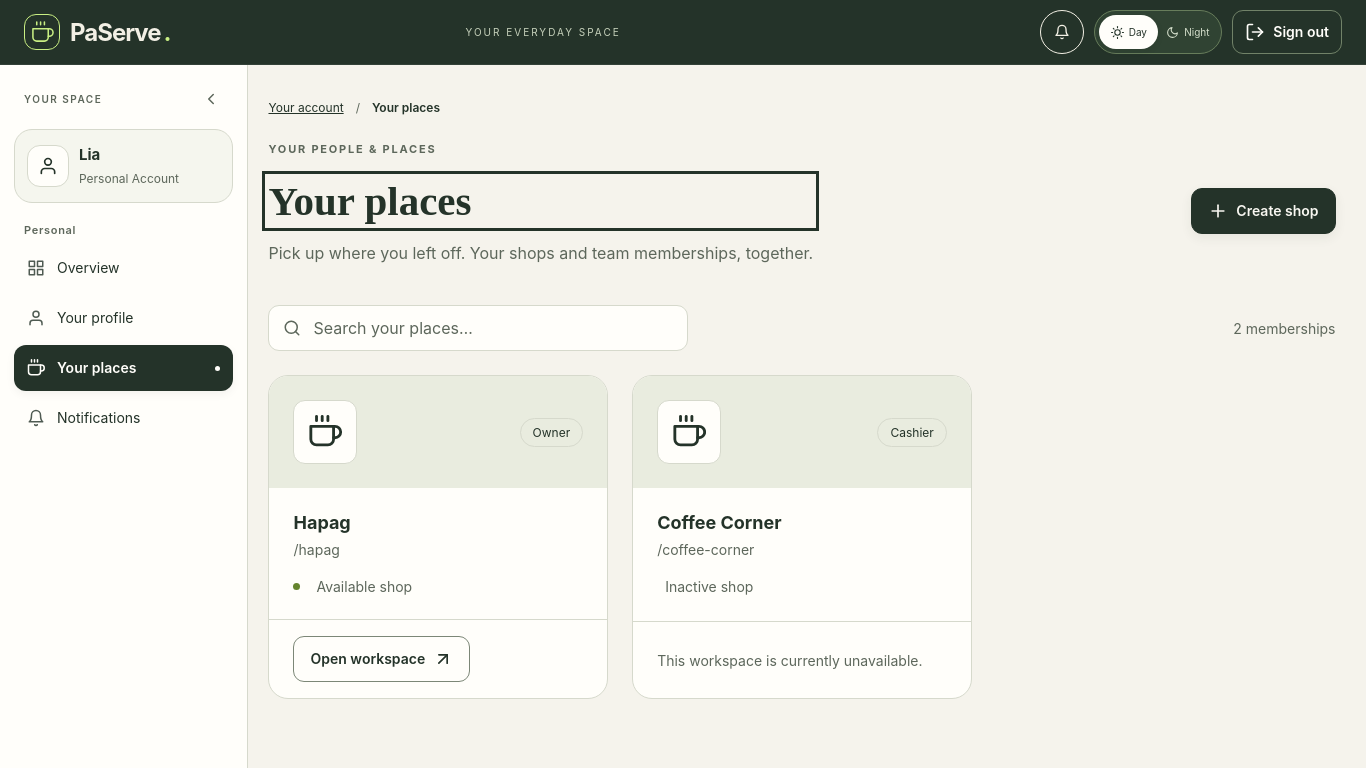
it: searches by role and recovers from no matching places
The image size is (1366, 768).
Type "cashier" into the search field labelled "Search your places" at (494, 328), box x1=302 y1=306 x2=688 y2=350
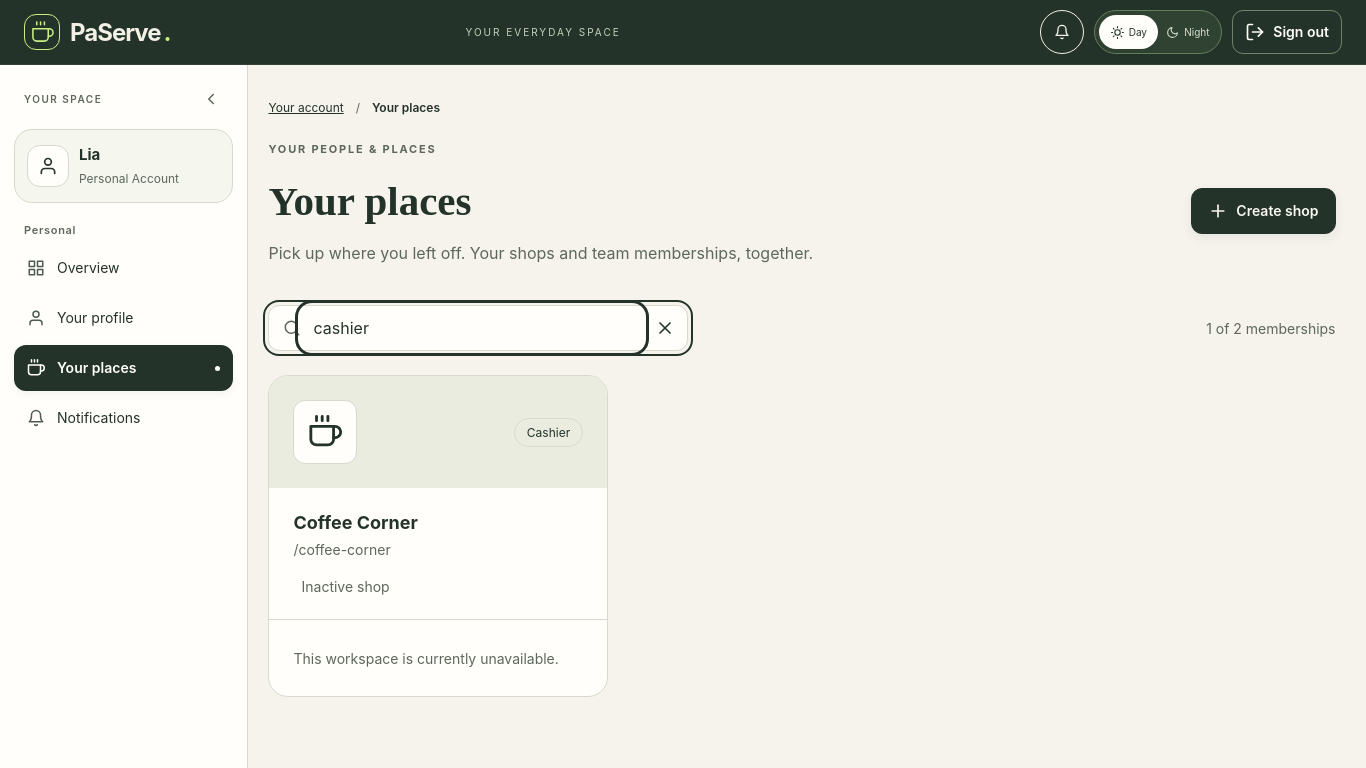
Expected: the heading "Coffee Corner" is shown, x1=294 y1=512 x2=418 y2=533
Expected: the heading "Hapag" is gone
Clear the search field named "Search your places" at (472, 328), box x1=302 y1=306 x2=644 y2=350
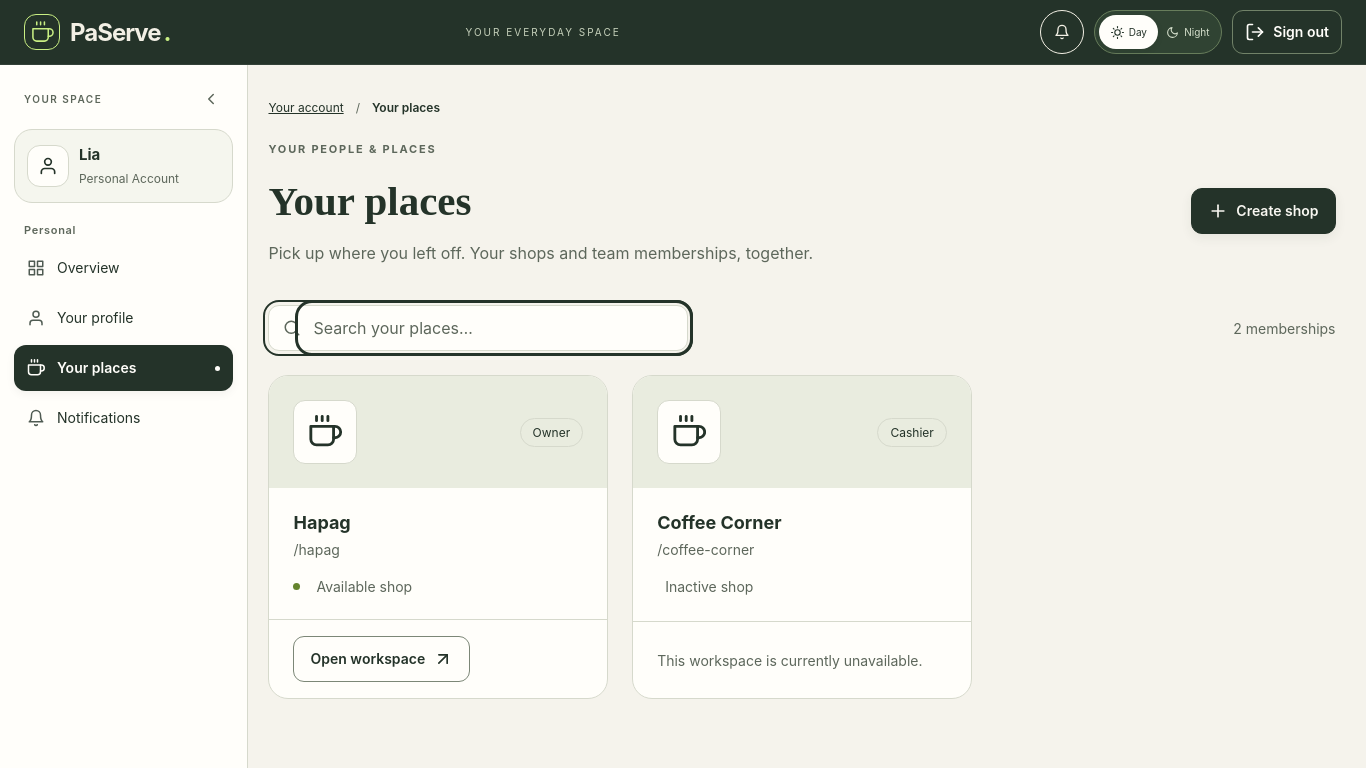
Type "missing" into the search field labelled "Search your places" at (494, 328), box x1=302 y1=306 x2=688 y2=350
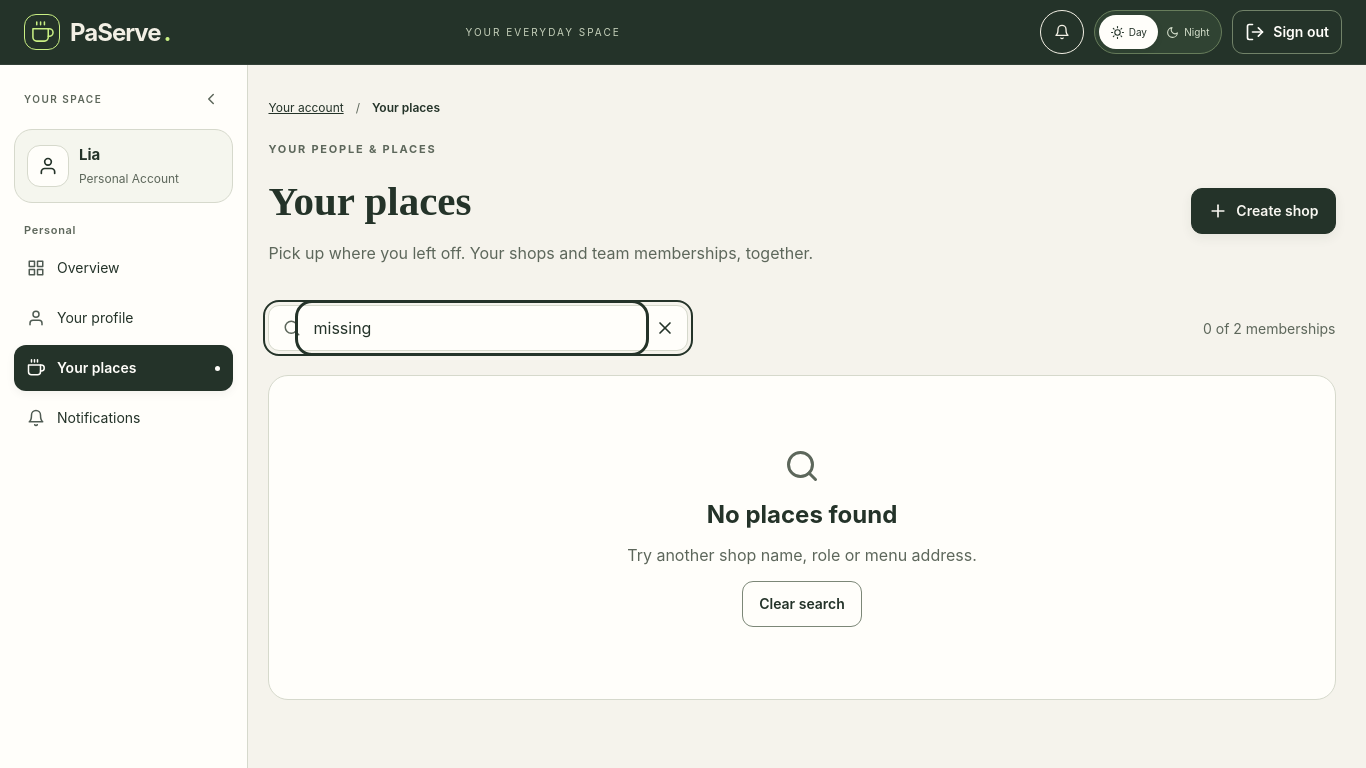
Expected: the heading "No places found" is shown, x1=707 y1=500 x2=897 y2=529
Click the button "Clear search" at (802, 604), box x1=742 y1=581 x2=862 y2=627
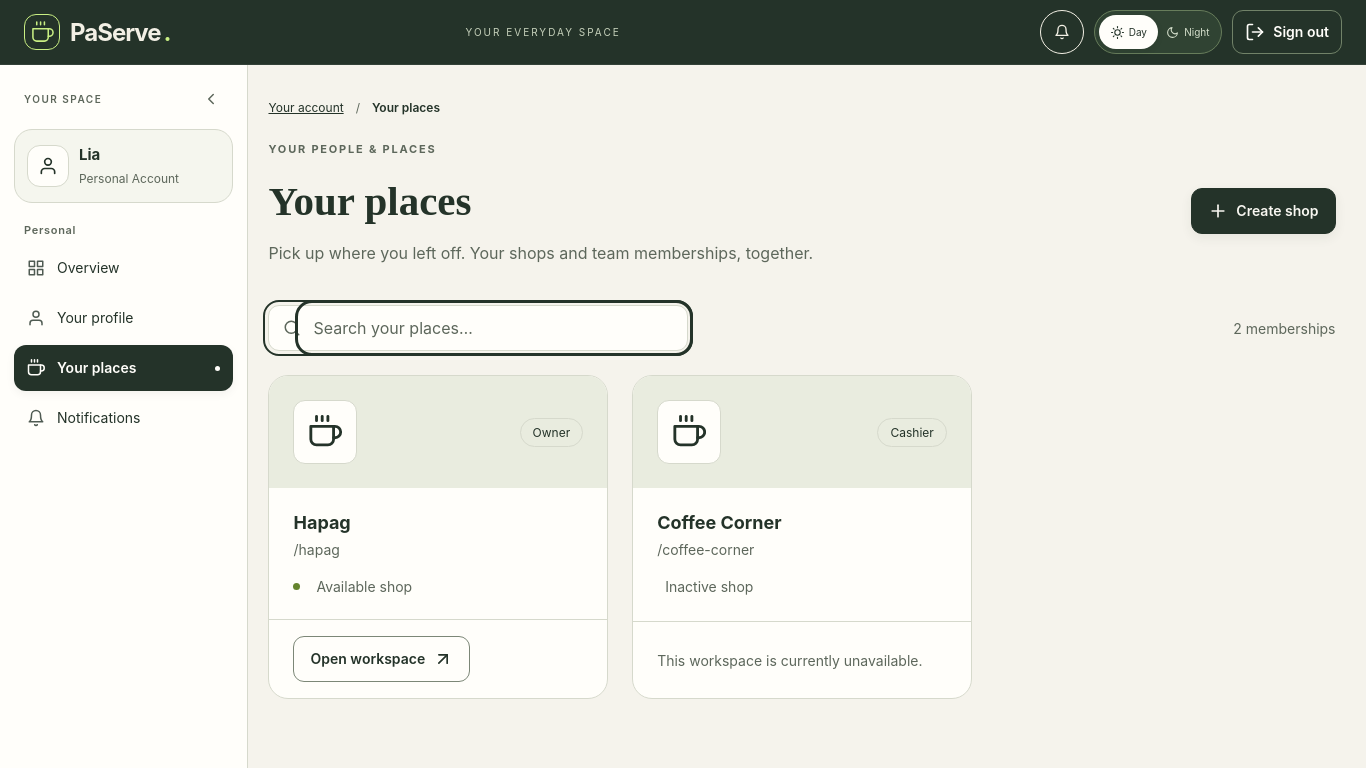
Expected: the heading "Hapag" is shown, x1=294 y1=512 x2=351 y2=533
